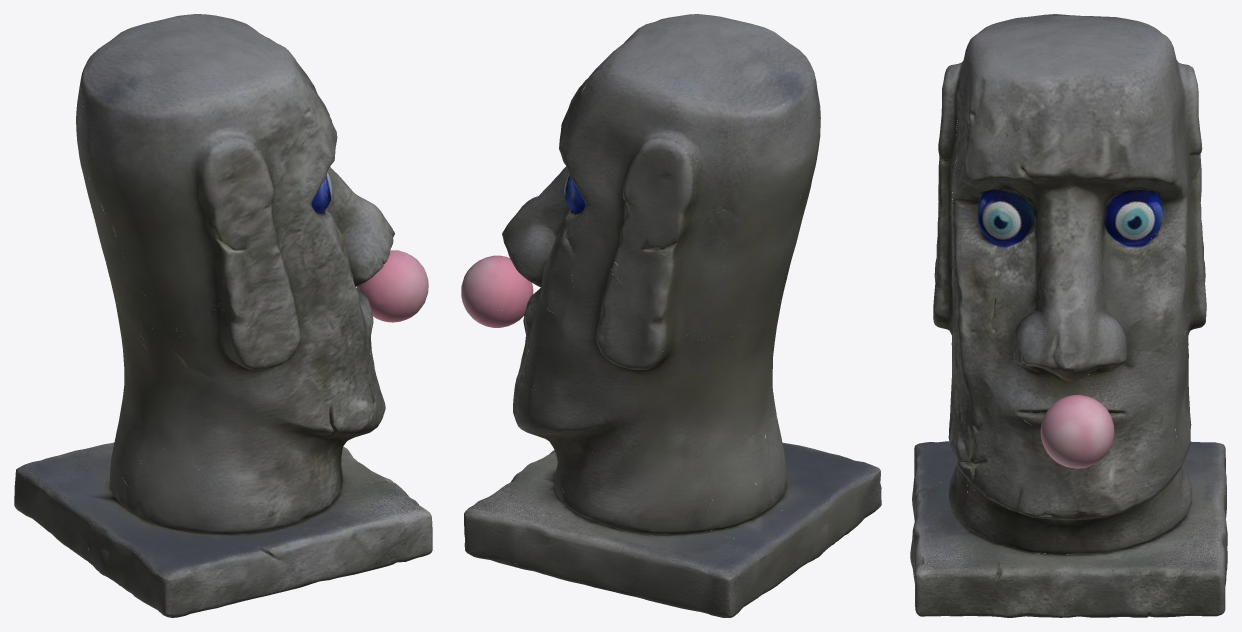
The model's file is moai.glb.
3 renders of one model, left to right at view 1: azimuth 30°, elevation 25°; view 2: azimuth 150°, elevation 25°; view 3: azimuth 270°, elevation 25°, orthographic.
Parts seen in each view (by area): view 1: tripo_node_a81a74fa-d2c8-4c01-b0e7-640000c6ac0b; view 2: tripo_node_a81a74fa-d2c8-4c01-b0e7-640000c6ac0b; view 3: tripo_node_a81a74fa-d2c8-4c01-b0e7-640000c6ac0b.
Boxes of the visible parts, bbox=[...] form: tripo_node_a81a74fa-d2c8-4c01-b0e7-640000c6ac0b: bbox=[14, 14, 432, 617]; tripo_node_a81a74fa-d2c8-4c01-b0e7-640000c6ac0b: bbox=[461, 14, 881, 617]; tripo_node_a81a74fa-d2c8-4c01-b0e7-640000c6ac0b: bbox=[910, 14, 1227, 617].
Size of the model in its own units: 0.7163 by 1 by 0.5681.
1 material, 1 textured.
